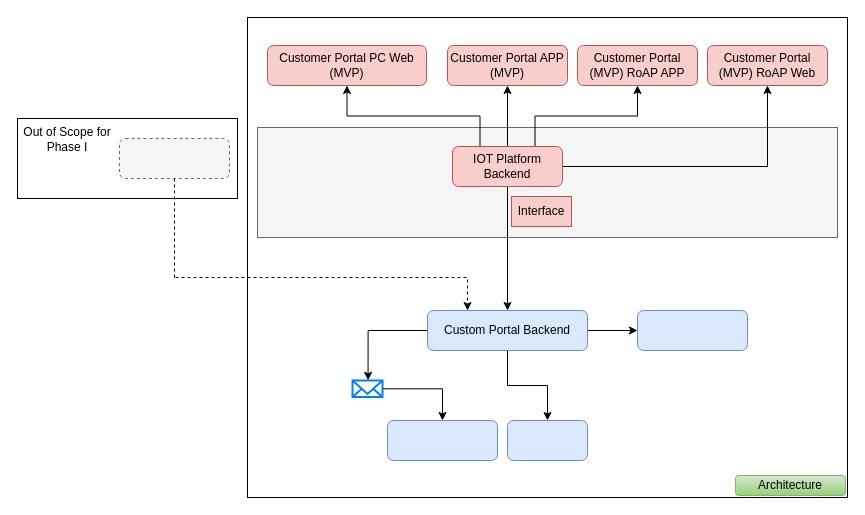
Some shapes in this 865 by 515 pixel diagram are drawn without their labels. The shapes that lost their labels are listed below. From the top down, each one's centre as x and y in pixels, then its label:
At (174,158): "Salesforce (Future)".
At (692,330): "Custom Portal Web Management".
At (442,440): "WeChat Service Account".
At (547,440): "WeChat MiniApp".
